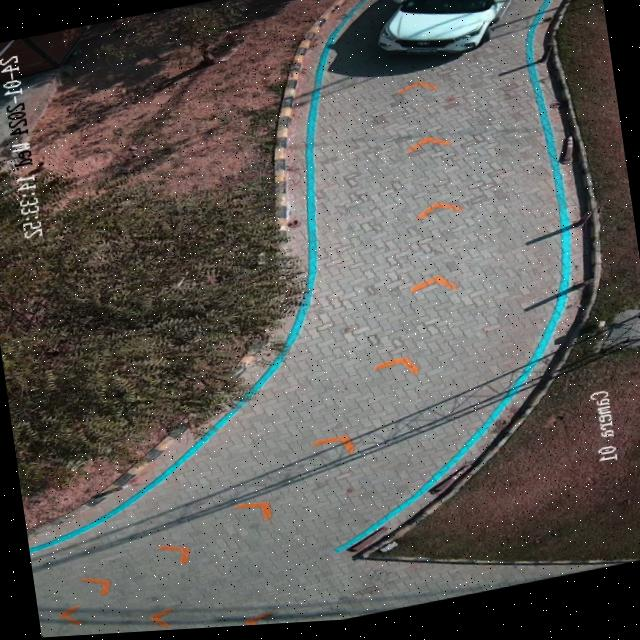car: (378, 0, 514, 59)
